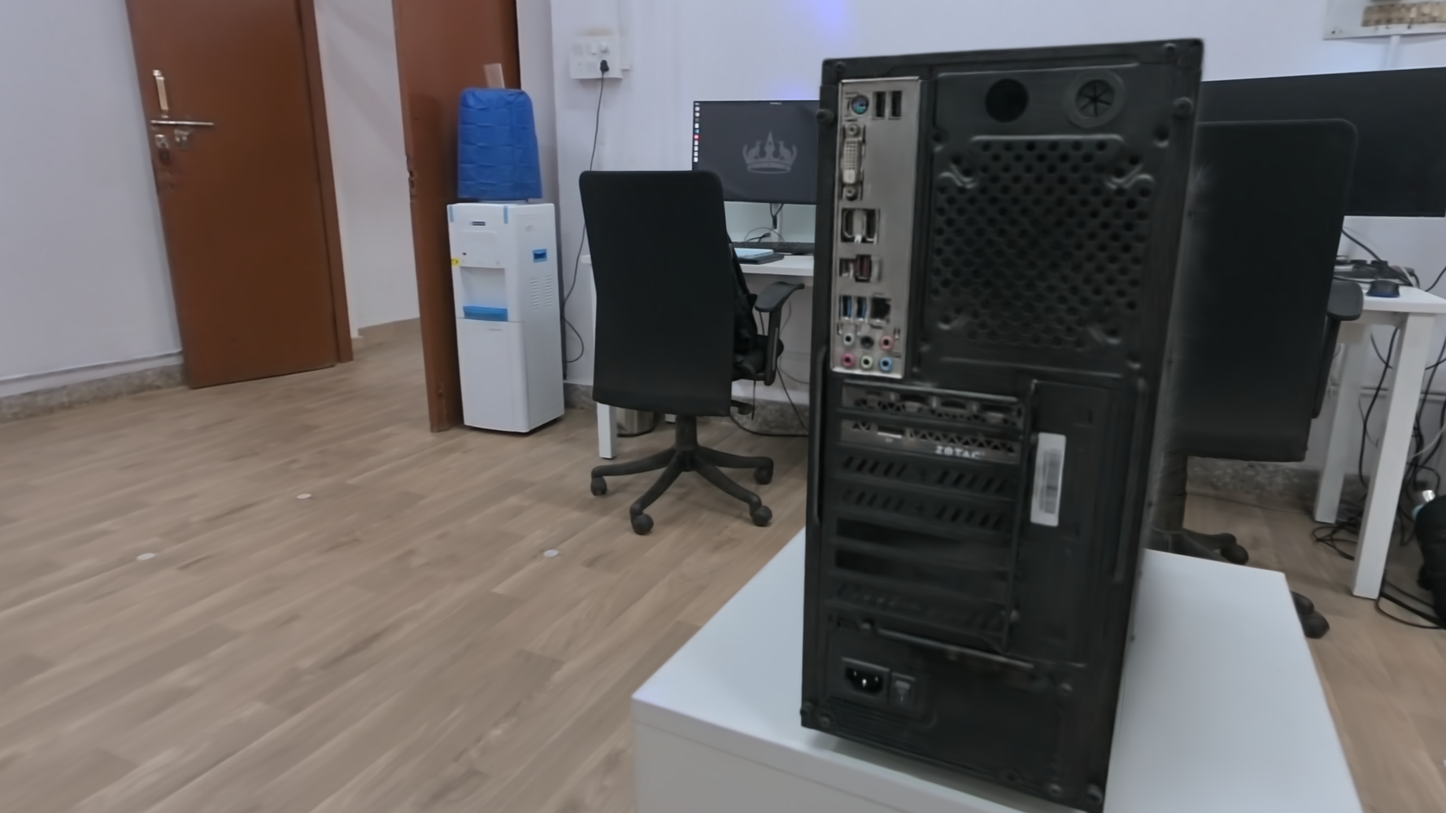HDMI_socket: (840, 208, 856, 243), (862, 208, 877, 243)
PC_Panel: (796, 36, 1204, 813)
PS2_socket: (851, 94, 870, 116)
USB_socket: (890, 90, 903, 118), (874, 90, 886, 120), (840, 294, 852, 319), (856, 295, 868, 319)
VGA_socket: (842, 123, 866, 202)
ethernet_socket: (870, 297, 892, 320)
power_socket: (837, 656, 891, 707)
